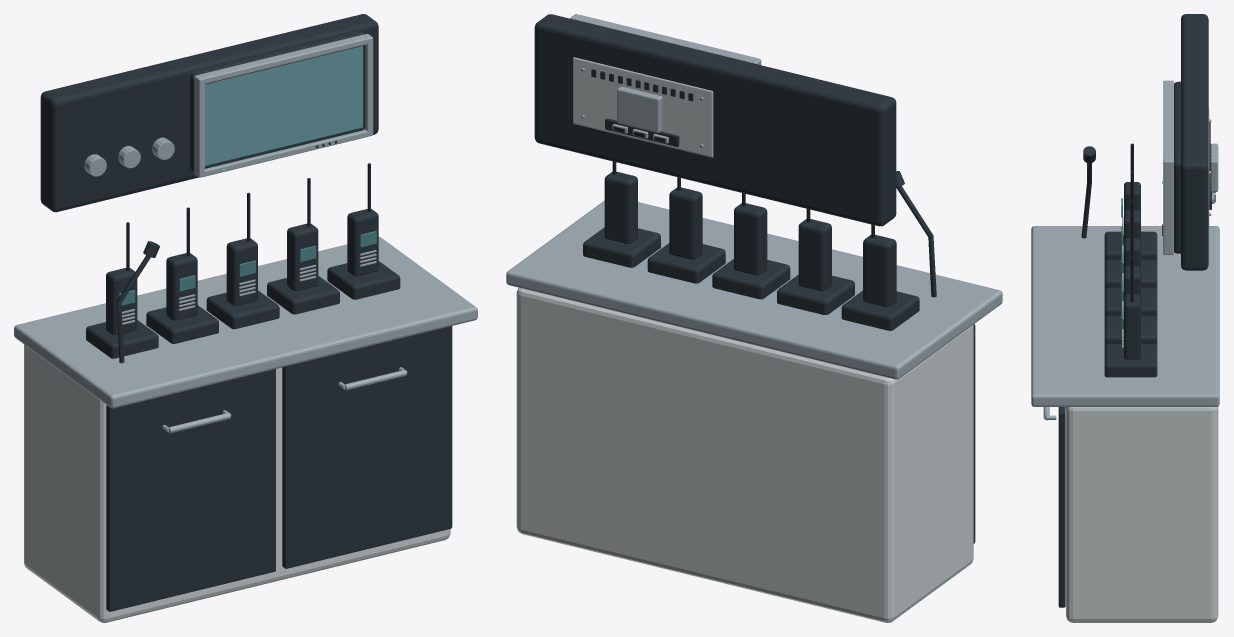
The model's file is SC_RadioDutyStation.fbx.
The picture shows the model from 3 angles, left to right: view 1: azimuth 30°, elevation 25°; view 2: azimuth 150°, elevation 25°; view 3: azimuth 270°, elevation 25°; orthographic projection. The views are drawn at different scales.
Visible parts, largest first — view 1: SC_RadioDutyStation; view 2: SC_RadioDutyStation; view 3: SC_RadioDutyStation.
Boxes of the visible parts, <box> form: SC_RadioDutyStation: <box>14,14,477,622</box>; SC_RadioDutyStation: <box>506,14,1002,622</box>; SC_RadioDutyStation: <box>1031,14,1219,622</box>.
Bounding box in the file's own units: 146 × 182 × 68.
